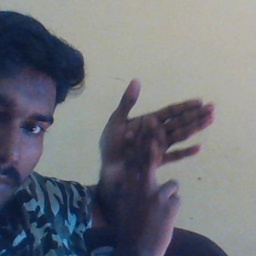N: (93, 77, 219, 223)
